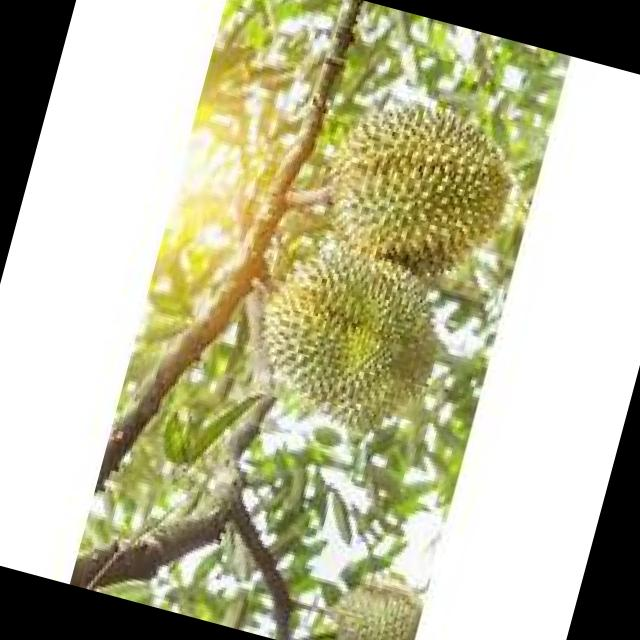fruit: (219, 223, 471, 462), (288, 73, 533, 310), (314, 561, 422, 640)
